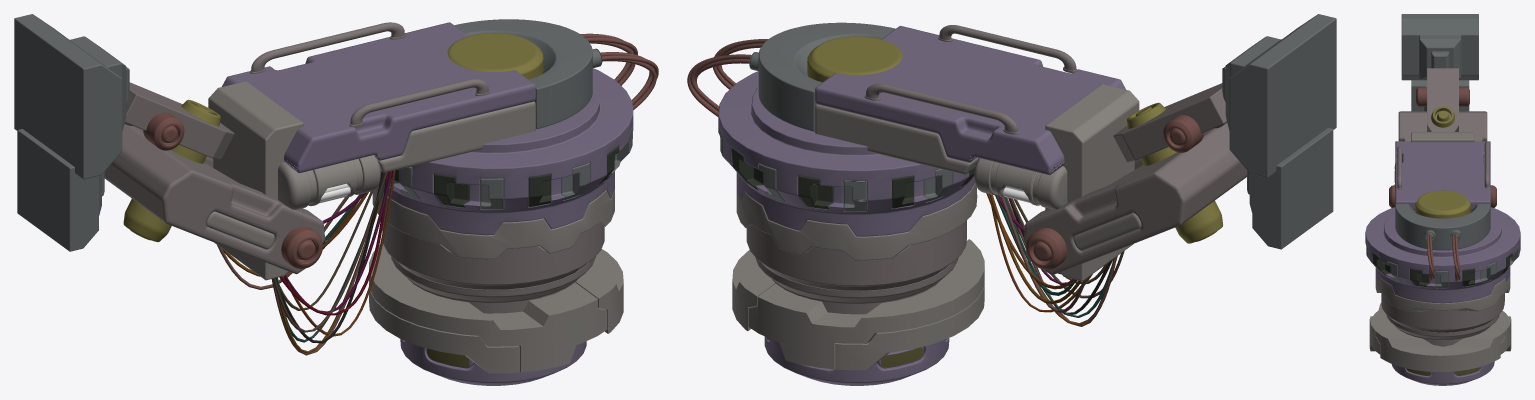
File: 模型测试2.fbx
3 renders of one model, left to right at view 1: azimuth 30°, elevation 25°; view 2: azimuth 150°, elevation 25°; view 3: azimuth 270°, elevation 25°, orthographic. The views are drawn at different scales.
Visible parts, largest first — view 1: 柱体.051, 柱体.048, 柱体.070, 立方体.052, 柱体.053, Slice.014, 柱体.052, 立方体.051, 柱体.050, Slice.001, GeoCables.002, Slice.010 (+15 smaller); view 2: 柱体.051, 柱体.048, 柱体.070, 立方体.052, 柱体.053, Slice.014, 柱体.052, 立方体.051, 柱体.050, Slice.001, Slice.010, 柱体.054 (+15 smaller); view 3: 柱体.048, 柱体.051, 立方体.052, Slice.013, Slice.014, 柱体.050, 柱体.054, Slice.001, 柱体.053, 柱体.049, 柱体.070, Slice.012 (+10 smaller).
Boxes of the visible parts, x1=… form: 柱体.051: x1=222, y1=22, x2=535, y2=172; 柱体.048: x1=377, y1=68, x2=633, y2=385; 柱体.070: x1=369, y1=244, x2=607, y2=373; 立方体.052: x1=14, y1=14, x2=129, y2=179; 柱体.053: x1=104, y1=124, x2=325, y2=274; Slice.014: x1=382, y1=220, x2=604, y2=313; 柱体.052: x1=208, y1=81, x2=303, y2=280; 立方体.051: x1=17, y1=129, x2=104, y2=251; 柱体.050: x1=454, y1=19, x2=602, y2=128; Slice.001: x1=372, y1=187, x2=614, y2=259; GeoCables.002: x1=271, y1=170, x2=395, y2=355; Slice.010: x1=377, y1=101, x2=535, y2=172; 柱体.051: x1=815, y1=26, x2=1125, y2=175; 柱体.048: x1=718, y1=71, x2=974, y2=385; 柱体.070: x1=748, y1=239, x2=984, y2=370; 立方体.052: x1=1222, y1=14, x2=1336, y2=177; 柱体.053: x1=1023, y1=122, x2=1246, y2=275; Slice.014: x1=746, y1=220, x2=966, y2=314; 柱体.052: x1=1045, y1=84, x2=1139, y2=281; 立方体.051: x1=1247, y1=128, x2=1333, y2=249; 柱体.050: x1=749, y1=22, x2=895, y2=131; Slice.001: x1=736, y1=183, x2=977, y2=260; Slice.010: x1=815, y1=104, x2=978, y2=174; 柱体.054: x1=1113, y1=83, x2=1226, y2=162; 柱体.048: x1=1365, y1=207, x2=1520, y2=385; 柱体.051: x1=1395, y1=141, x2=1490, y2=210; 立方体.052: x1=1401, y1=14, x2=1478, y2=80; Slice.013: x1=1375, y1=331, x2=1505, y2=372; Slice.014: x1=1381, y1=293, x2=1504, y2=346; 柱体.050: x1=1395, y1=204, x2=1490, y2=250; 柱体.054: x1=1427, y1=68, x2=1458, y2=131; Slice.001: x1=1375, y1=275, x2=1510, y2=311; 柱体.053: x1=1398, y1=111, x2=1487, y2=141; 柱体.049: x1=1415, y1=190, x2=1470, y2=218; 柱体.070: x1=1369, y1=303, x2=1511, y2=354; Slice.012: x1=1372, y1=252, x2=1512, y2=287.
Size of the model in its own units: 730 by 494 by 291.
